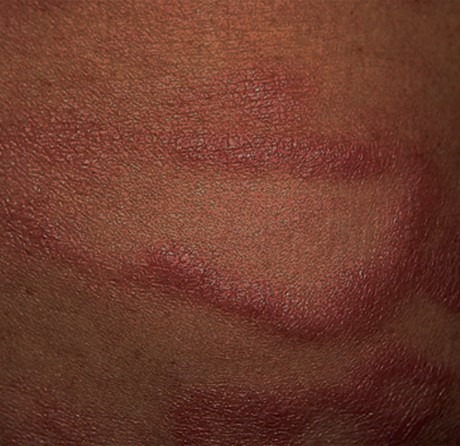Leprosy: (0, 105, 459, 445)
